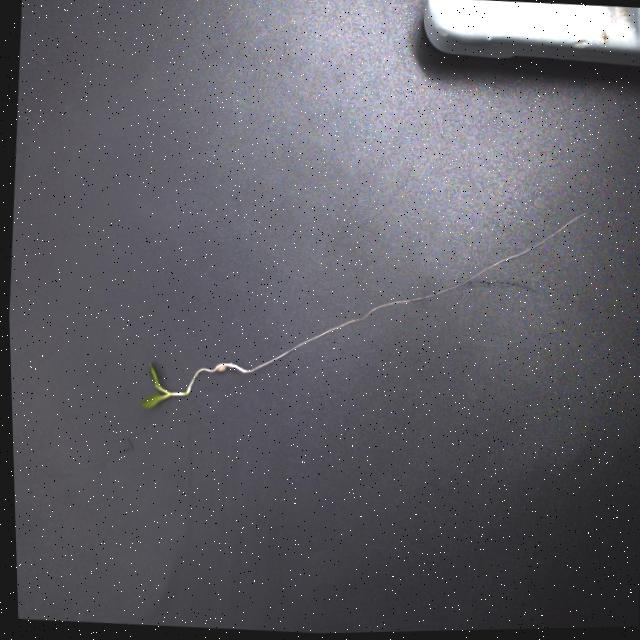leaf: (147, 364, 158, 388)
root: (185, 205, 592, 394)
steb: (158, 386, 187, 400)
